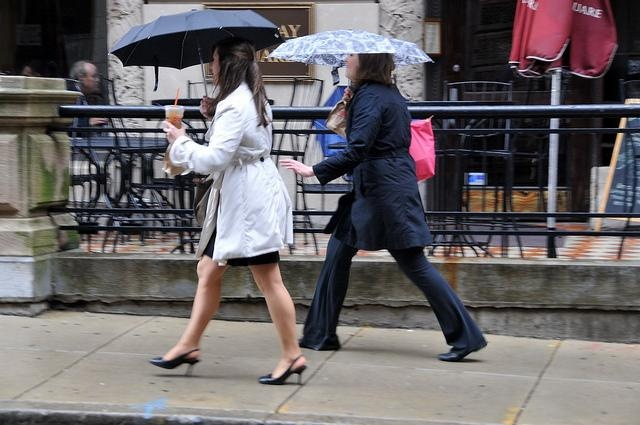person: (286, 36, 489, 364), (147, 41, 311, 390)
